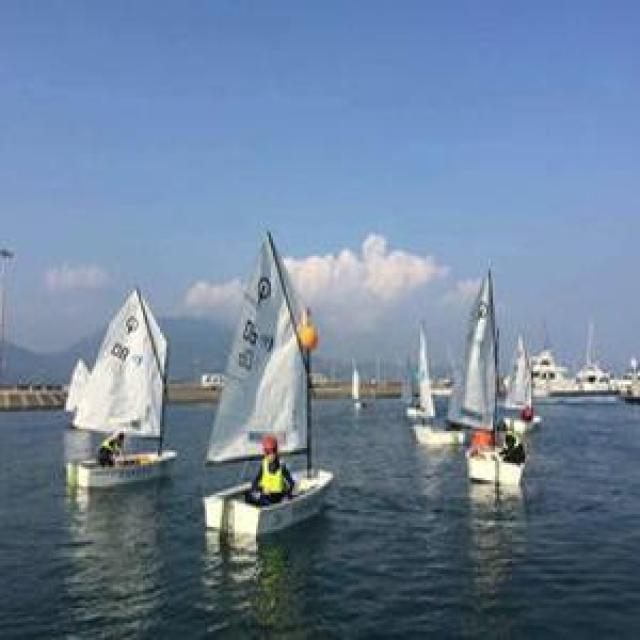sailboat: (190, 234, 350, 527), (34, 282, 182, 497), (435, 298, 526, 516)
